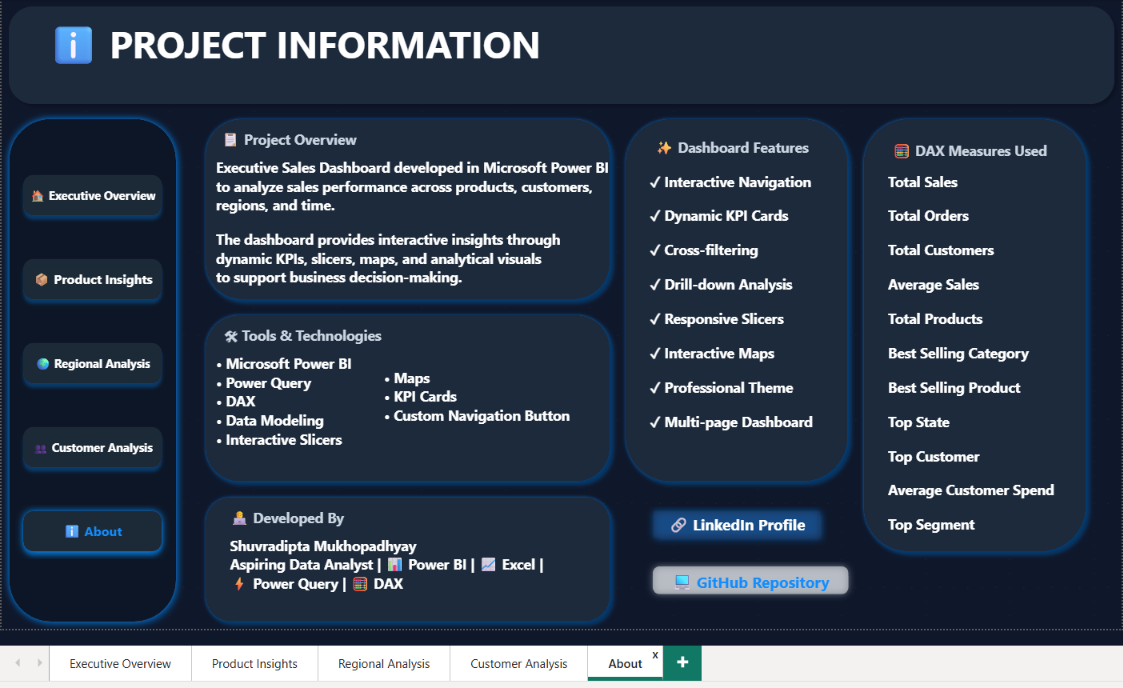

This screenshot's page, from the dashboard's own definition file:
{"tool":"powerbi","page":{"name":"About","canvas":[1280,720],"ordinal":4},"visuals":[{"type":"shape","box":[0,128,208,592],"z":0},{"type":"actionButton","box":[16,192,170,42],"z":1},{"type":"actionButton","box":[16,288,170,42],"z":2},{"type":"actionButton","box":[16,384,170,42],"z":3},{"type":"actionButton","box":[16,480,170,42],"z":4},{"type":"actionButton","box":[16,576,170,42],"z":5},{"type":"shape","box":[0,0,1280,128],"z":6},{"type":"textbox","box":[48,16,848,96],"z":7},{"type":"shape","box":[224,128,480,224],"z":8},{"type":"textbox","box":[240,144,176,32],"z":9},{"type":"textbox","box":[240,176,464,160],"z":10},{"type":"shape","box":[224,352,480,208],"z":11},{"type":"textbox","box":[240,368,208,32],"z":12},{"type":"textbox","box":[240,400,176,128],"z":13},{"type":"textbox","box":[432,416,224,80],"z":14},{"type":"shape","box":[704,128,272,432],"z":15},{"type":"textbox","box":[730,153.1,208,32],"z":16},{"type":"textbox","box":[736,192,208,320],"z":17},{"type":"shape","box":[976,128,272,512],"z":18},{"type":"textbox","box":[1001.7,156.6,208,32],"z":19},{"type":"textbox","box":[1008,192,208,432],"z":20},{"type":"shape","box":[224,560,480,160],"z":21},{"type":"textbox","box":[256,576,224,32],"z":22},{"type":"textbox","box":[256,608,432,80],"z":23},{"type":"actionButton","box":[736,576,208,48],"z":24},{"type":"actionButton","box":[736,640,240,48],"z":25}]}

Visuals, with their boxes on the page's 1280x720 design canvas (x1, y1, x2, y2). These are canvas units, not pixel positions in the 1123x688 screenshot, which may show the page scaled, cropped or inside an application window:
shape: x1=0, y1=128, x2=208, y2=720
actionButton: x1=16, y1=192, x2=186, y2=234
actionButton: x1=16, y1=288, x2=186, y2=330
actionButton: x1=16, y1=384, x2=186, y2=426
actionButton: x1=16, y1=480, x2=186, y2=522
actionButton: x1=16, y1=576, x2=186, y2=618
shape: x1=0, y1=0, x2=1280, y2=128
textbox: x1=48, y1=16, x2=896, y2=112
shape: x1=224, y1=128, x2=704, y2=352
textbox: x1=240, y1=144, x2=416, y2=176
textbox: x1=240, y1=176, x2=704, y2=336
shape: x1=224, y1=352, x2=704, y2=560
textbox: x1=240, y1=368, x2=448, y2=400
textbox: x1=240, y1=400, x2=416, y2=528
textbox: x1=432, y1=416, x2=656, y2=496
shape: x1=704, y1=128, x2=976, y2=560
textbox: x1=730, y1=153, x2=938, y2=185
textbox: x1=736, y1=192, x2=944, y2=512
shape: x1=976, y1=128, x2=1248, y2=640
textbox: x1=1002, y1=157, x2=1210, y2=189
textbox: x1=1008, y1=192, x2=1216, y2=624
shape: x1=224, y1=560, x2=704, y2=720
textbox: x1=256, y1=576, x2=480, y2=608
textbox: x1=256, y1=608, x2=688, y2=688
actionButton: x1=736, y1=576, x2=944, y2=624
actionButton: x1=736, y1=640, x2=976, y2=688
